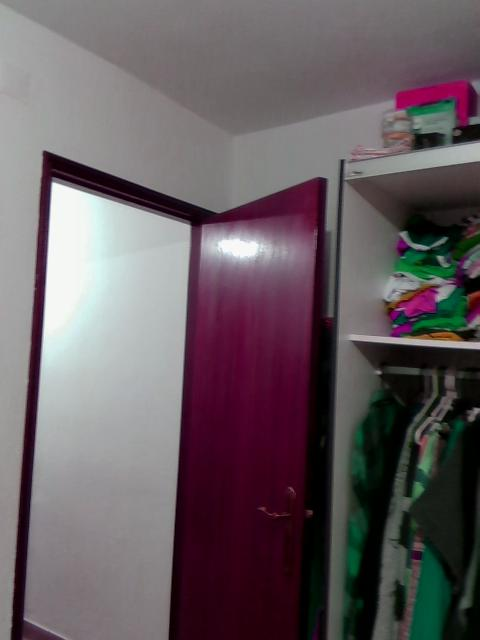open_door: (9, 148, 230, 638)
